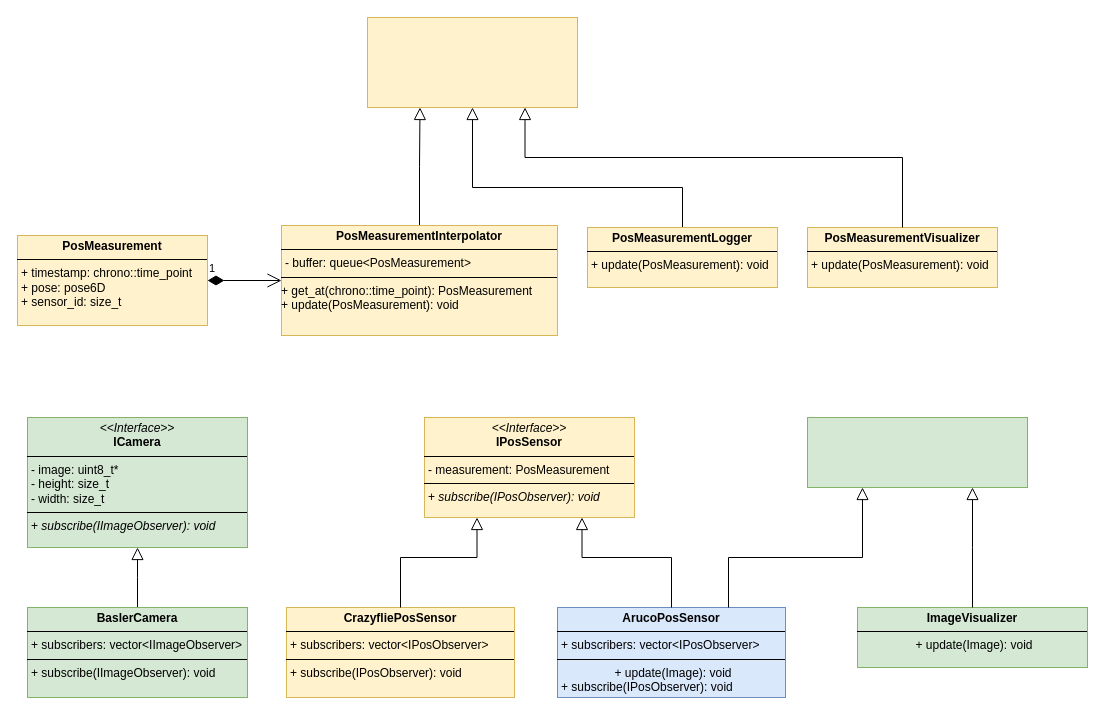
Image size: 1105x715. Some labels were removed from this diagram. Here are the shapes that lost their labels. From the top down, the box of each, then its label:
(366, 16, 578, 108): <<Interface>> IPosObserver + update(Measurement): void
(806, 416, 1028, 488): <<Interface>> IImageObserver + update(Image): void
